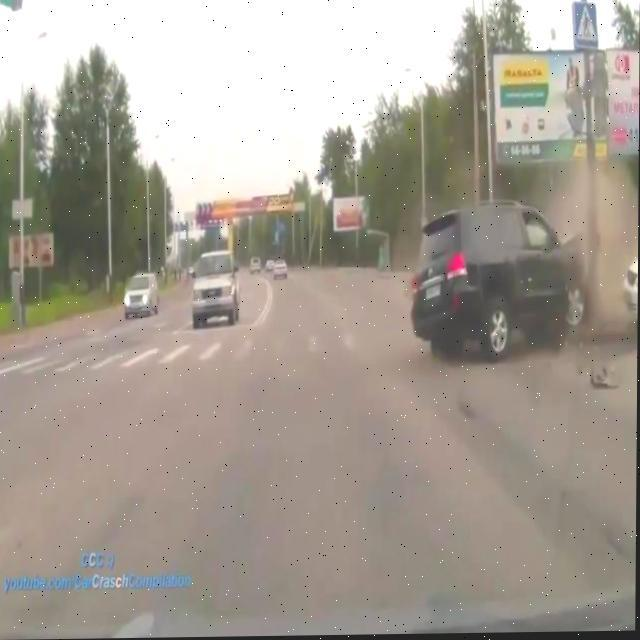multiple_accident: (393, 190, 640, 354)
normal: (87, 219, 336, 347)
